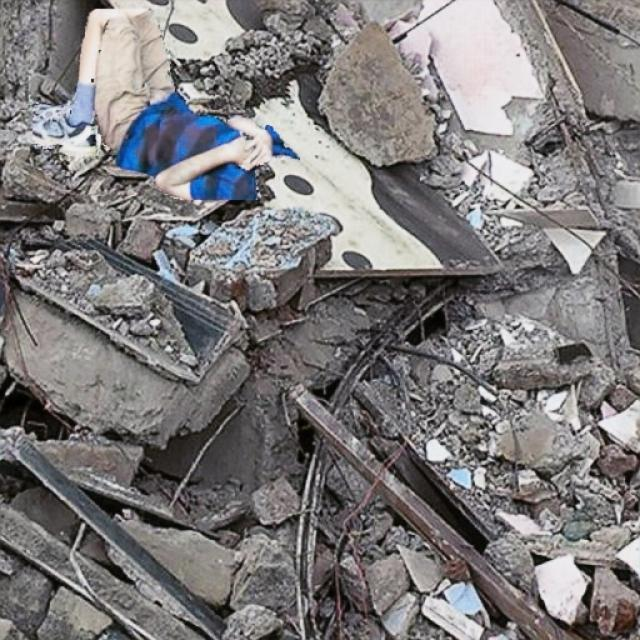Person in Rubble: (32, 9, 298, 199)
